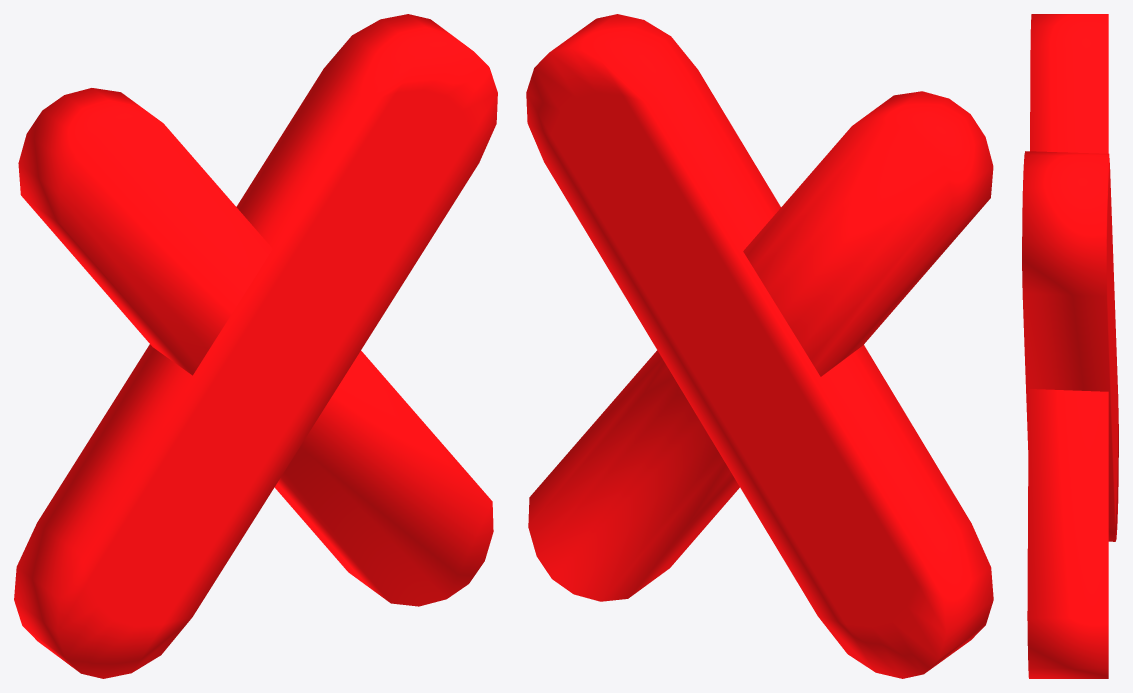
The model's file is red_x.glb.
The picture shows the model from 3 angles, left to right: view 1: azimuth 30°, elevation 25°; view 2: azimuth 150°, elevation 25°; view 3: azimuth 270°, elevation 25°; orthographic projection. The views are drawn at different scales.
Parts seen in each view (by area): view 1: Red_X; view 2: Red_X; view 3: Red_X.
Boxes of the visible parts, box(x1,y1,x2,y2) form: Red_X: box(14, 14, 497, 678); Red_X: box(526, 14, 993, 678); Red_X: box(1022, 14, 1118, 678).
Size of the model in its own units: 0.3708 by 0.4525 by 0.0774.
